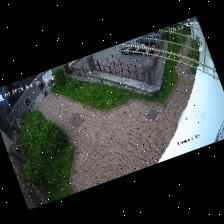person: (129, 52, 132, 58)
